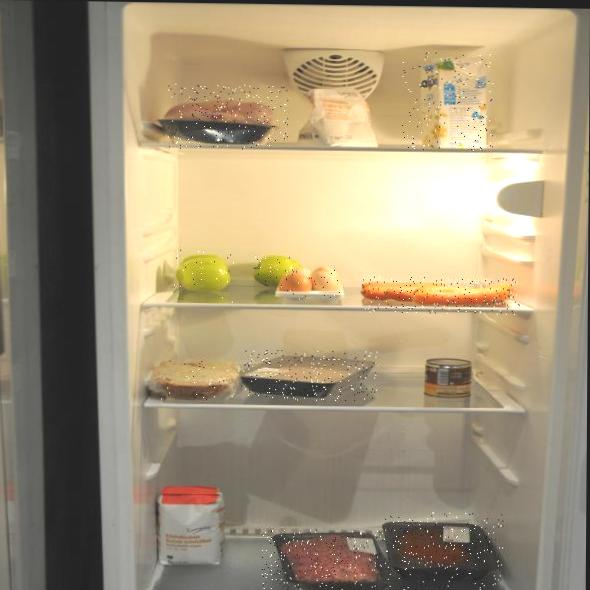apple: (173, 250, 237, 304), (253, 256, 294, 282)
bread: (154, 360, 243, 401)
carrots: (362, 276, 520, 315)
chicken: (168, 84, 288, 150)
eggs: (281, 269, 342, 301)
meat: (384, 512, 503, 590), (262, 529, 390, 590), (243, 350, 377, 402)
milk: (402, 52, 494, 151)
